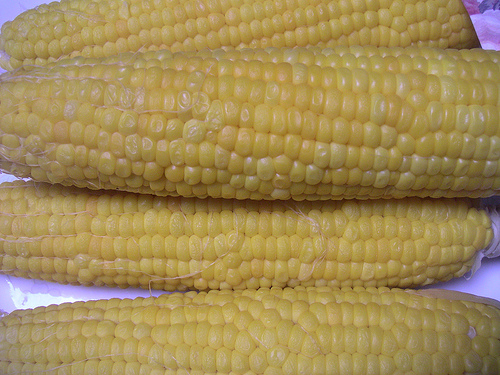corn: (0, 45, 499, 202), (2, 285, 499, 374)
